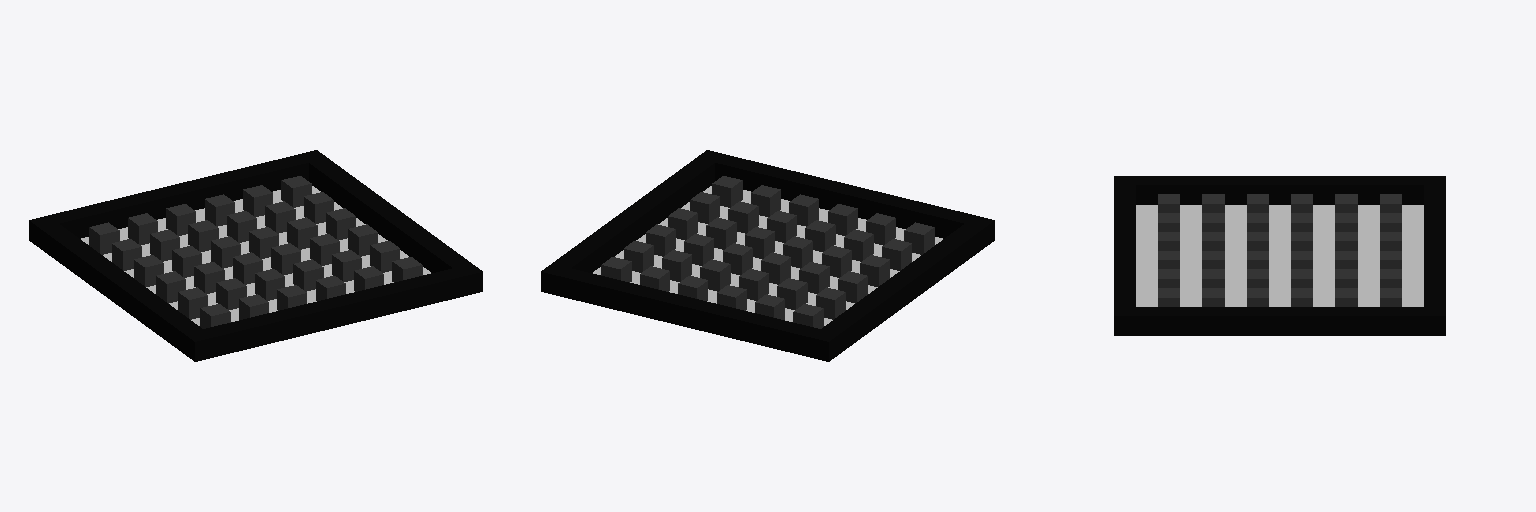
Rendered from map_indie.obj.
The picture shows the model from 3 angles: view 1: azimuth 30°, elevation 25°; view 2: azimuth 150°, elevation 25°; view 3: azimuth 270°, elevation 25°; orthographic projection.
Visible parts, largest first — view 1: Side.001_Cube.003, Side_Cube.001, Side.003_Cube.005, Side.002_Cube.004, Base_Plane, Cube.022_Cube.029, Cube.011_Cube.018, Cube.008_Cube.015, Cube.028_Cube.035, Cube.035_Cube.042, Cube.032_Cube.039, Cube.017_Cube.024 (+28 smaller); view 2: Side_Cube.001, Side.001_Cube.003, Side.003_Cube.005, Side.002_Cube.004, Base_Plane, Cube.013_Cube.020, Cube.010_Cube.017, Cube.029_Cube.036, Cube.026_Cube.033, Cube.002_Cube.009, Cube.005_Cube.012, Cube.007_Cube.014 (+28 smaller); view 3: Base_Plane, Side.002_Cube.004, Side.003_Cube.005, Side_Cube.001, Side.001_Cube.003.
Part boxes in pixels (x1,y1,x2,y2): Side.001_Cube.003: (184, 265, 482, 361); Side_Cube.001: (29, 150, 325, 245); Side.003_Cube.005: (29, 216, 213, 359); Side.002_Cube.004: (301, 150, 482, 295); Base_Plane: (81, 186, 430, 325); Cube.022_Cube.029: (287, 217, 317, 249); Cube.011_Cube.018: (216, 278, 246, 309); Cube.008_Cube.015: (293, 259, 323, 291); Cube.028_Cube.035: (188, 220, 218, 251); Cube.035_Cube.042: (281, 176, 311, 207); Cube.032_Cube.039: (89, 222, 119, 254); Cube.017_Cube.024: (194, 262, 224, 293); Side_Cube.001: (541, 264, 839, 361); Side.001_Cube.003: (699, 150, 994, 245); Side.003_Cube.005: (810, 216, 994, 361); Side.002_Cube.004: (541, 152, 724, 295); Base_Plane: (593, 186, 942, 325); Cube.013_Cube.020: (706, 217, 736, 249); Cube.010_Cube.017: (805, 220, 835, 251); Cube.029_Cube.036: (777, 278, 807, 309); Cube.026_Cube.033: (700, 259, 730, 291); Cube.002_Cube.009: (904, 222, 934, 254); Cube.005_Cube.012: (712, 176, 742, 207); Cube.007_Cube.014: (728, 201, 758, 233); Base_Plane: (1136, 205, 1423, 306); Side.002_Cube.004: (1114, 307, 1445, 335); Side.003_Cube.005: (1114, 176, 1445, 204); Side_Cube.001: (1424, 176, 1445, 335); Side.001_Cube.003: (1114, 176, 1135, 335).
Bounding box in the file's own units: 30 × 2 × 30.